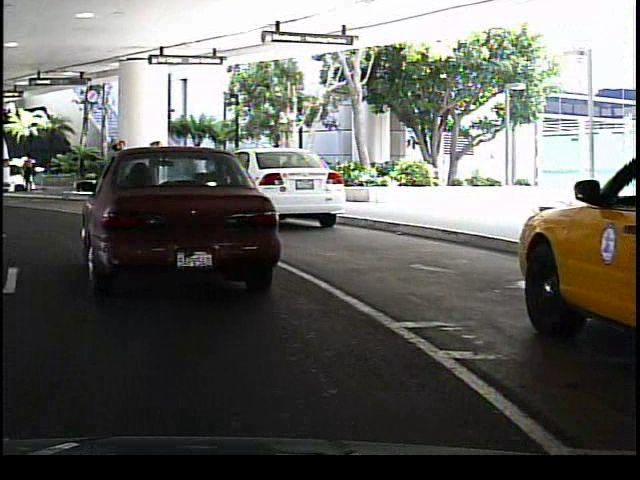person: (107, 136, 130, 198), (185, 142, 210, 193), (144, 138, 165, 195), (20, 153, 38, 197)
